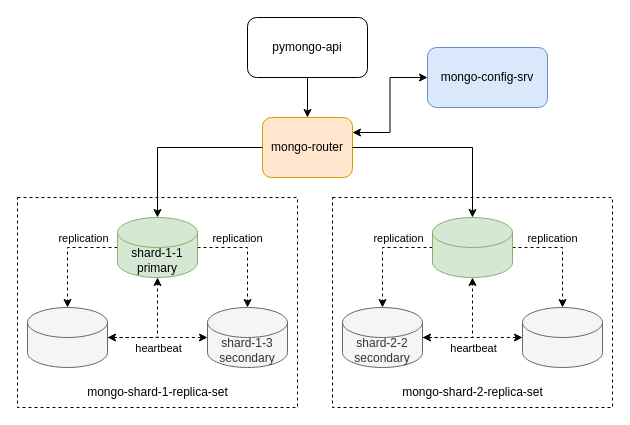
Image size: 630x425. Some labels were removed from this diagram. Each missing label, with the box of its shape:
shard-1-2 secondary: (26, 306, 108, 368)
shard-2-1 primary: (432, 216, 512, 278)
shard-2-3 secondary: (522, 306, 602, 368)
